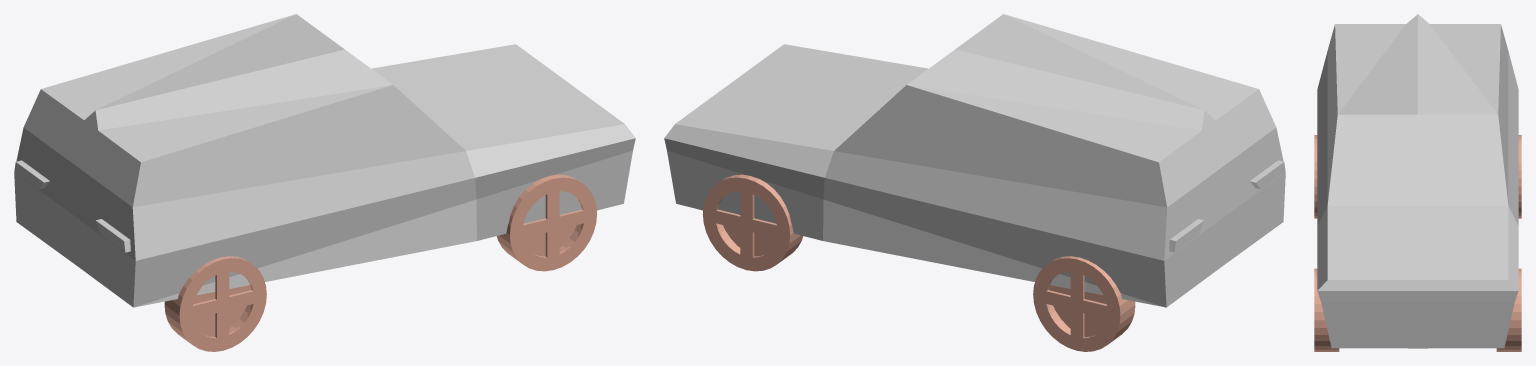
File: TestCarV6.gltf
The picture shows the model from 3 angles, left to right: view 1: azimuth 30°, elevation 25°; view 2: azimuth 150°, elevation 25°; view 3: azimuth 270°, elevation 25°; orthographic projection. The views are drawn at different scales.
Parts seen in each view (by area): view 1: body, wheel_RR, wheel_FR, lights_rear; view 2: body, wheel_RL, wheel_FL, lights_rear; view 3: body, wheel_FL, wheel_FR, wheel_RL, wheel_RR.
Part boxes in pixels (x1,y1,x2,y2): body: [14, 14, 635, 307]; wheel_RR: [164, 256, 266, 351]; wheel_FR: [496, 174, 597, 271]; lights_rear: [14, 160, 130, 252]; body: [664, 14, 1285, 307]; wheel_RL: [1033, 256, 1135, 351]; wheel_FL: [702, 174, 803, 271]; lights_rear: [1169, 160, 1285, 252]; body: [1317, 14, 1518, 348]; wheel_FL: [1496, 268, 1521, 351]; wheel_FR: [1314, 268, 1339, 351]; wheel_RL: [1518, 135, 1521, 218]; wheel_RR: [1314, 135, 1317, 218].
Bounding box in the file's own units: 3.86 × 1.54 × 1.65.
